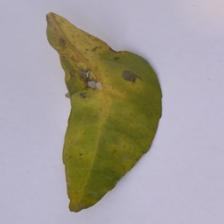greening: (34, 7, 170, 212)
